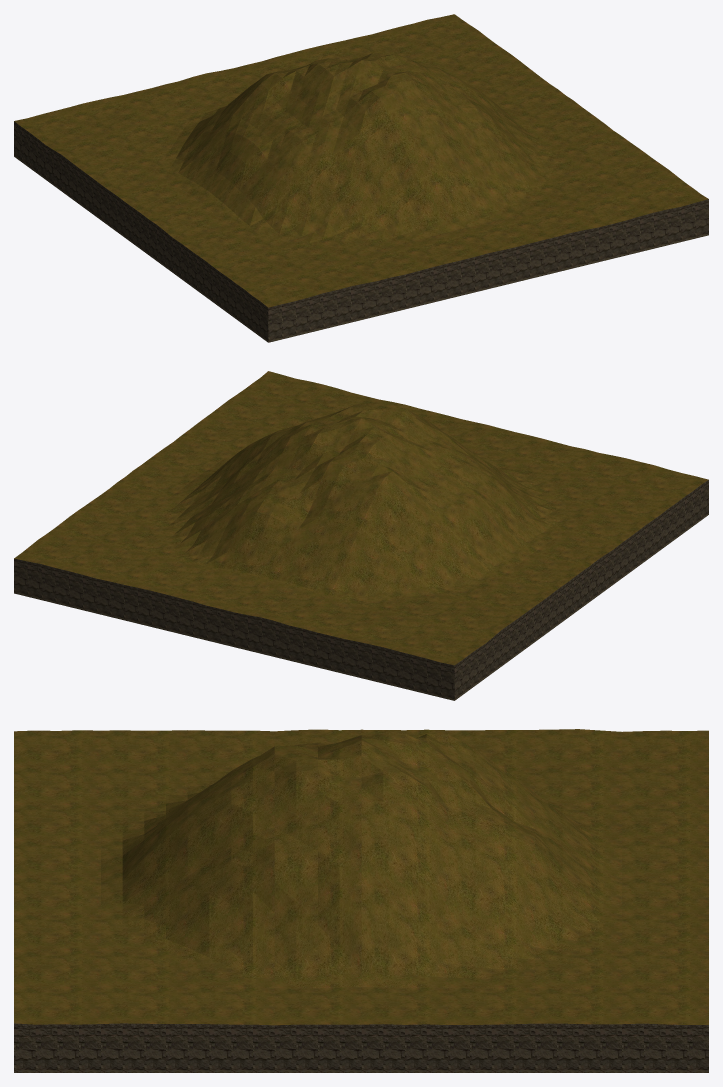
The model's file is rock_outcrop_01.glb.
3 views of the same model, one above another, from view 1: azimuth 30°, elevation 25°; view 2: azimuth 150°, elevation 25°; view 3: azimuth 270°, elevation 25° (orthographic). The views are drawn at different scales.
Visible parts, largest first — view 1: rock_outcrop_01; view 2: rock_outcrop_01; view 3: rock_outcrop_01.
Part boxes in pixels (x1,y1,x2,y2): rock_outcrop_01: [14, 14, 708, 342]; rock_outcrop_01: [14, 371, 708, 700]; rock_outcrop_01: [14, 729, 708, 1072].
Bounding box in the file's own units: 16 × 4.71 × 16.
2 materials, 2 textured.
